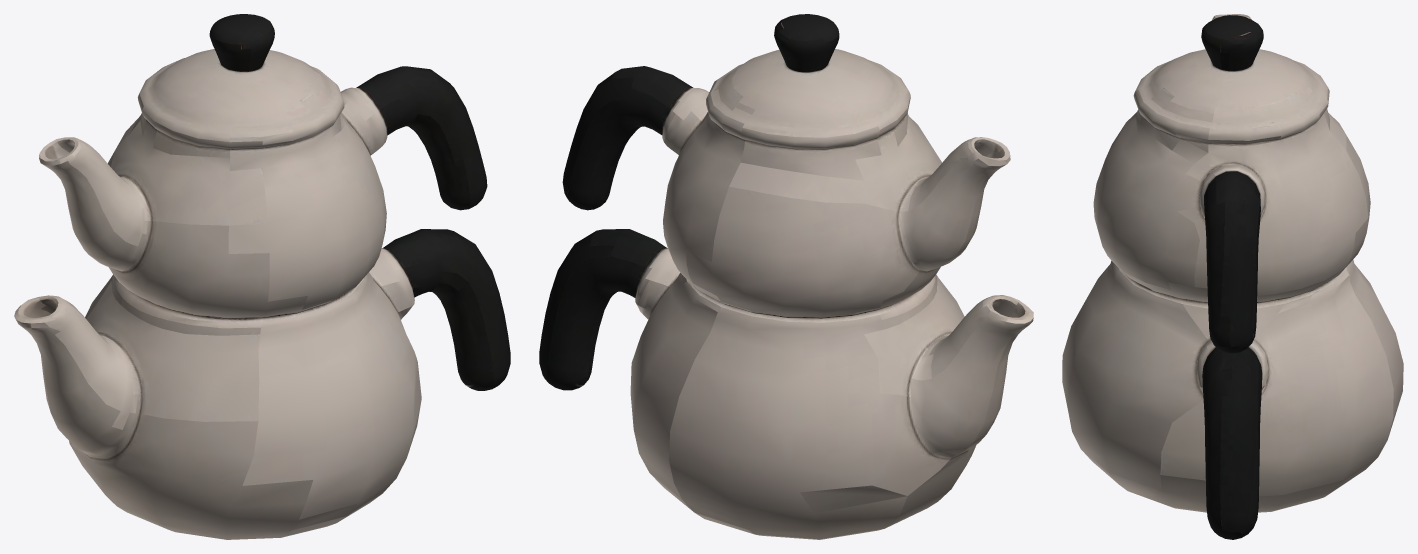
File: caydanlik.glb
3 renders of one model, left to right at view 1: azimuth 30°, elevation 25°; view 2: azimuth 150°, elevation 25°; view 3: azimuth 270°, elevation 25°, orthographic. The views are drawn at different scales.
Visible parts, largest first — view 1: Mesh0; view 2: Mesh0; view 3: Mesh0.
Part boxes in pixels (left/top/right/bottom): Mesh0: left=14, top=14, right=510, bottom=539; Mesh0: left=539, top=14, right=1033, bottom=539; Mesh0: left=1062, top=14, right=1403, bottom=539.
Size of the model in its own units: 1.9 by 1.75 by 1.21.
1 material, 1 textured.
